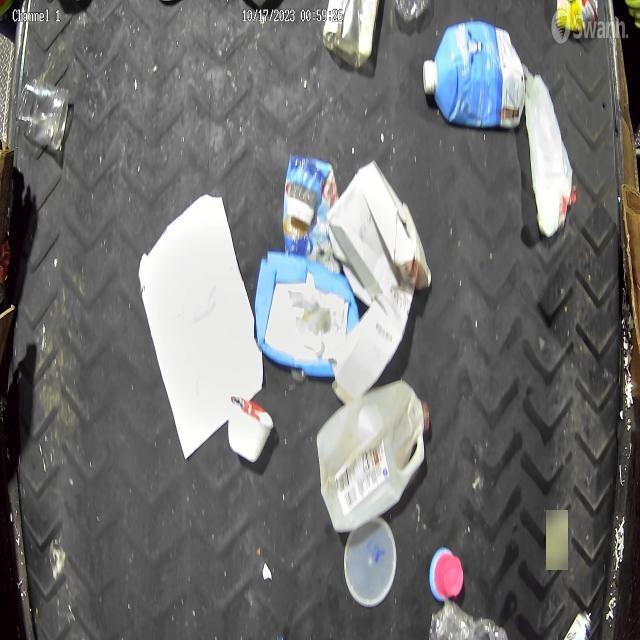milk_jug: (316, 378, 430, 534)
non_white_jug: (254, 246, 358, 375), (425, 22, 528, 130)
